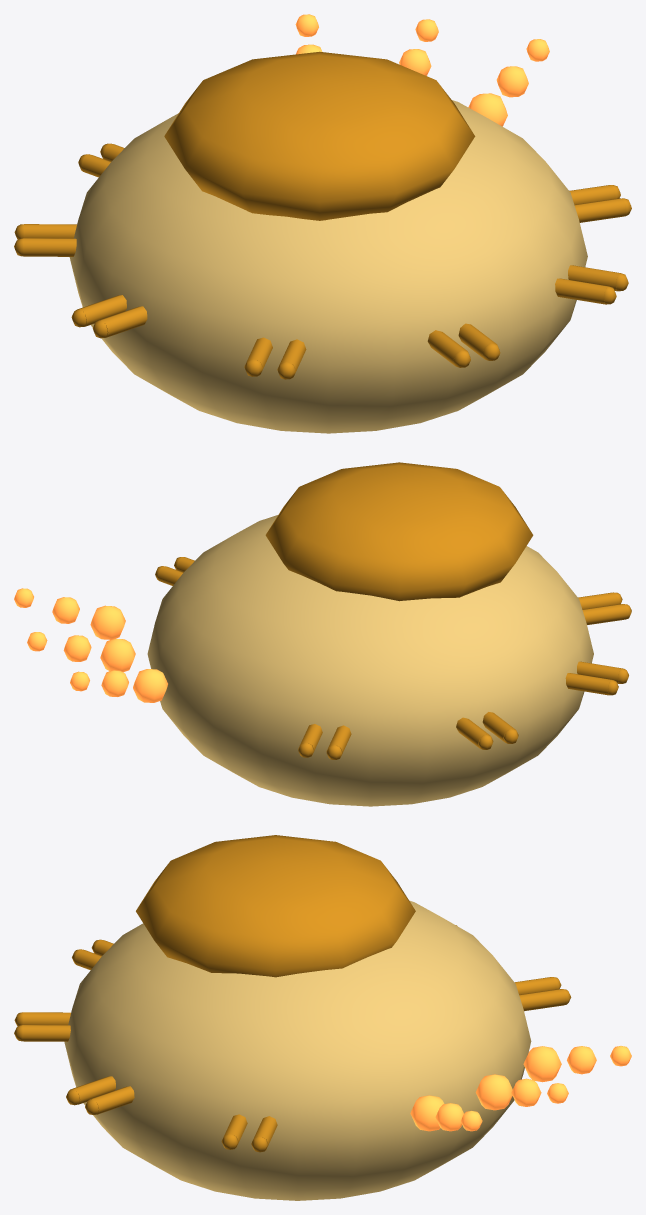
File: helper.glb
3 renders of one model, top to bottom at view 1: azimuth 30°, elevation 25°; view 2: azimuth 150°, elevation 25°; view 3: azimuth 270°, elevation 25°, orthographic. The views are drawn at different scales.
Parts seen in each view (by area): view 1: IW_L2_x_helper; view 2: IW_L2_x_helper; view 3: IW_L2_x_helper.
Part boxes in pixels (<box>): IW_L2_x_helper: <box>14,14,631,433</box>; IW_L2_x_helper: <box>14,462,631,806</box>; IW_L2_x_helper: <box>14,835,631,1200</box>.
Size of the model in its own units: 2.23 by 1.2 by 2.25.
